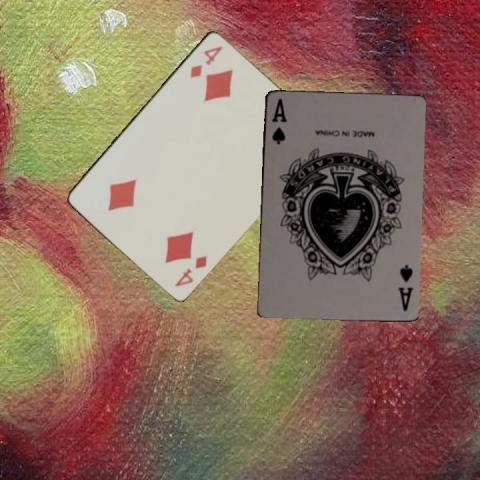4d: (171, 252, 209, 288), (187, 42, 224, 78)
As: (395, 261, 414, 312), (269, 95, 288, 145)
